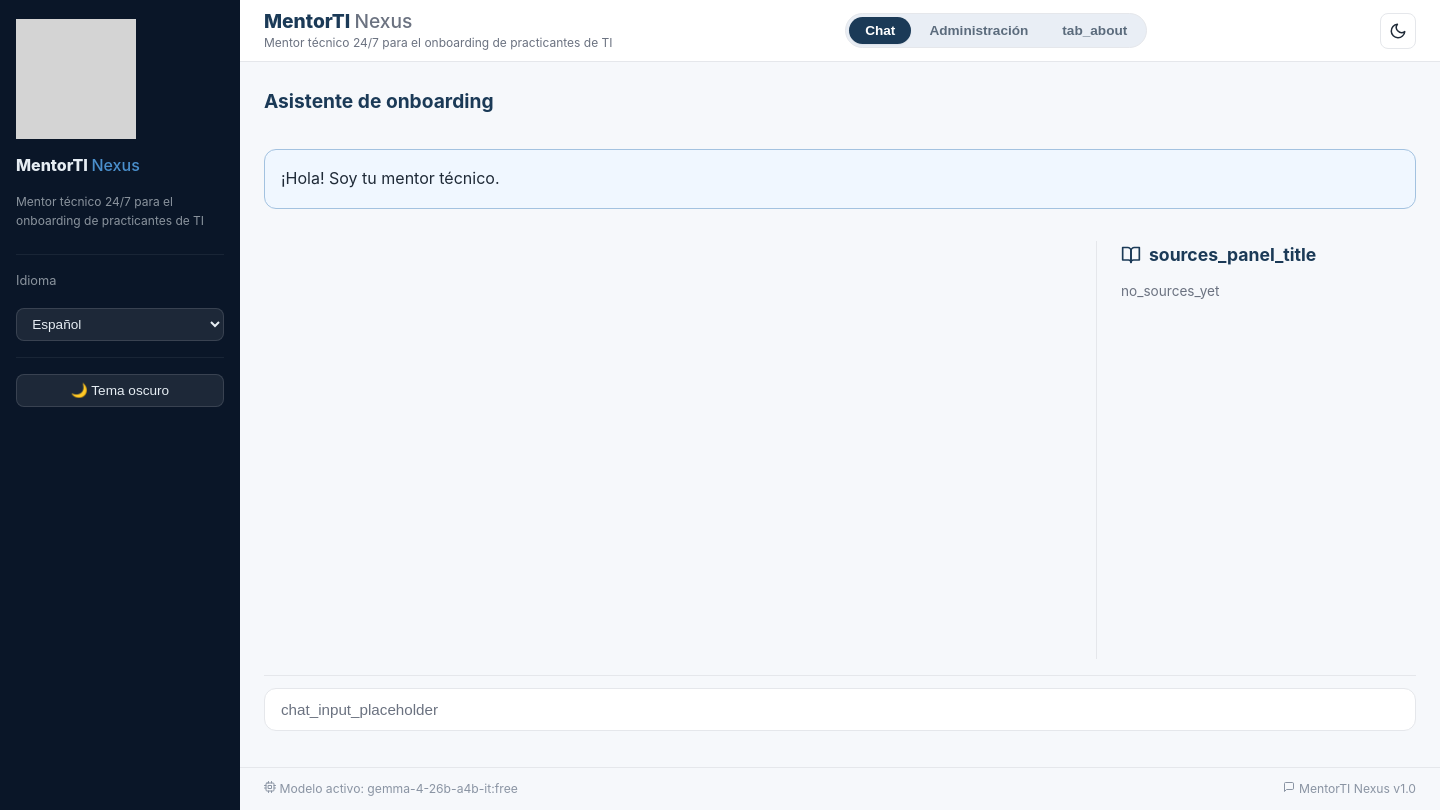
Test: App language switching › switches to Portuguese and updates sidebar
Select "Português (BR)" in the dropdown: (120, 324) [16,308,224,341]
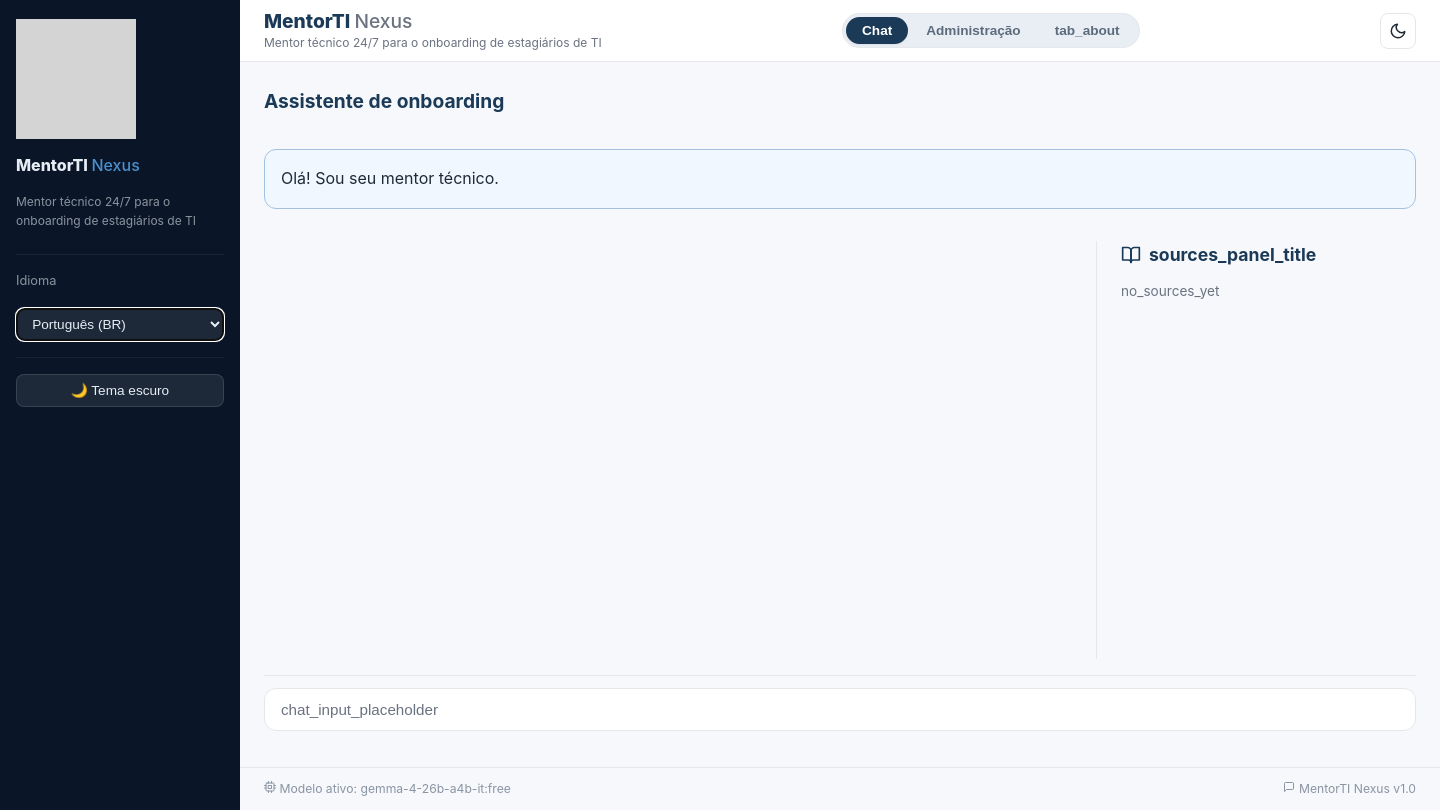
Now the button "Administração" is shown, box [910,17,1037,44]
